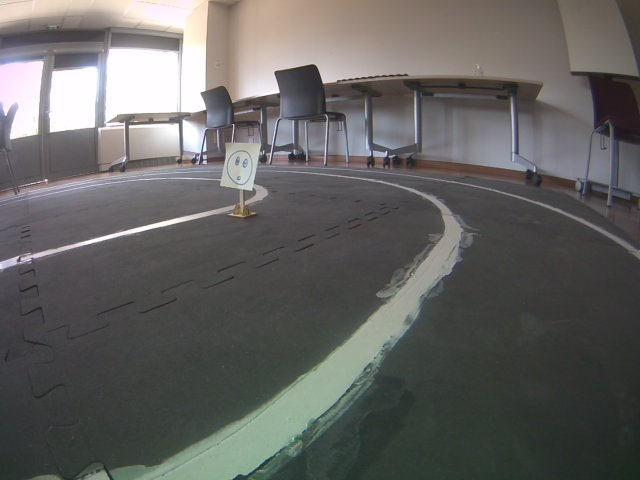Smiley: (219, 142, 260, 191)
